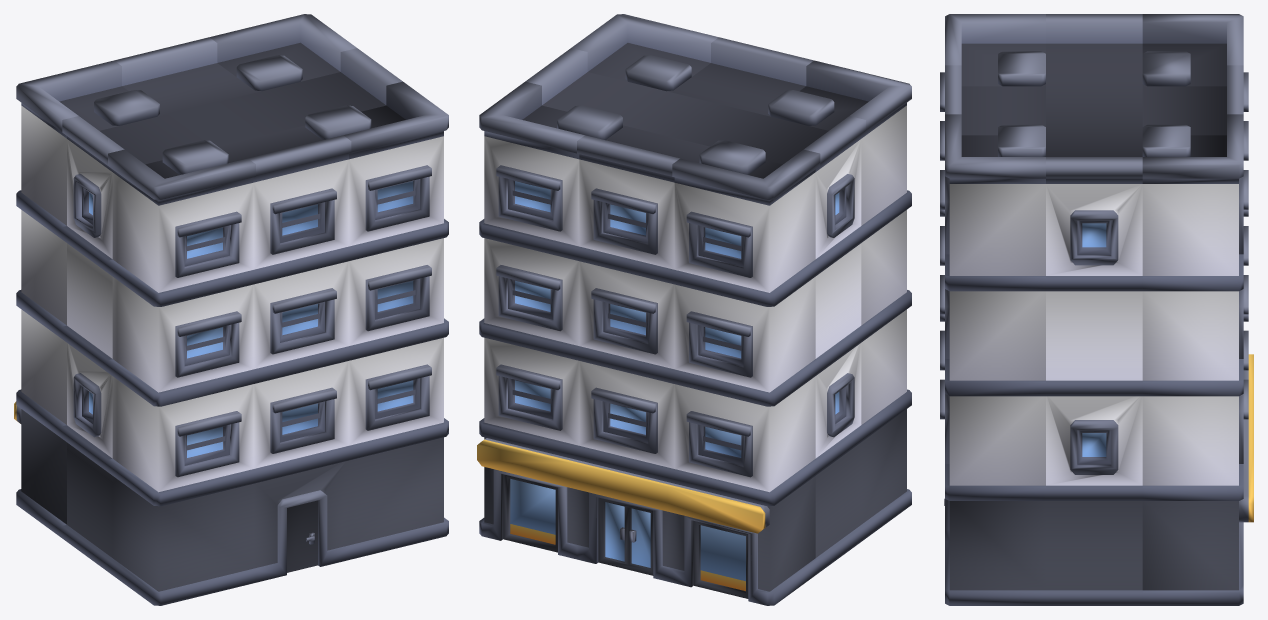
File: building-i_lev1.glb
3 views of the same model, side by side, from view 1: azimuth 30°, elevation 25°; view 2: azimuth 150°, elevation 25°; view 3: azimuth 270°, elevation 25° (orthographic). The views are drawn at different scales.
Visible parts, largest first — view 1: building-i_lev1; view 2: building-i_lev1; view 3: building-i_lev1.
Boxes of the visible parts, x1,y1,x2,y2 form: building-i_lev1: (14, 14, 448, 605); building-i_lev1: (477, 14, 911, 605); building-i_lev1: (940, 14, 1253, 605).
Size of the model in its own units: 7.44 by 10.08 by 6.51.
1 material, 1 textured.
